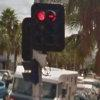traffic lights: (31, 3, 49, 53)
